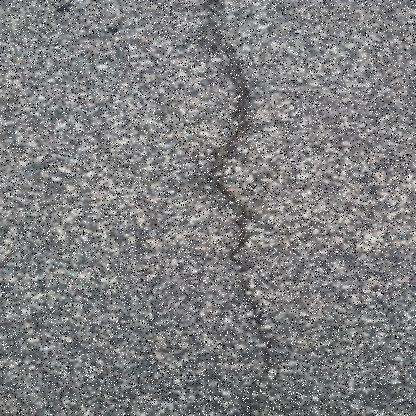Cracks: (178, 0, 294, 396)
